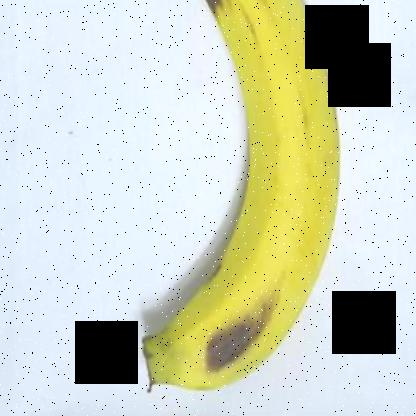freshripe: (130, 1, 354, 403)
